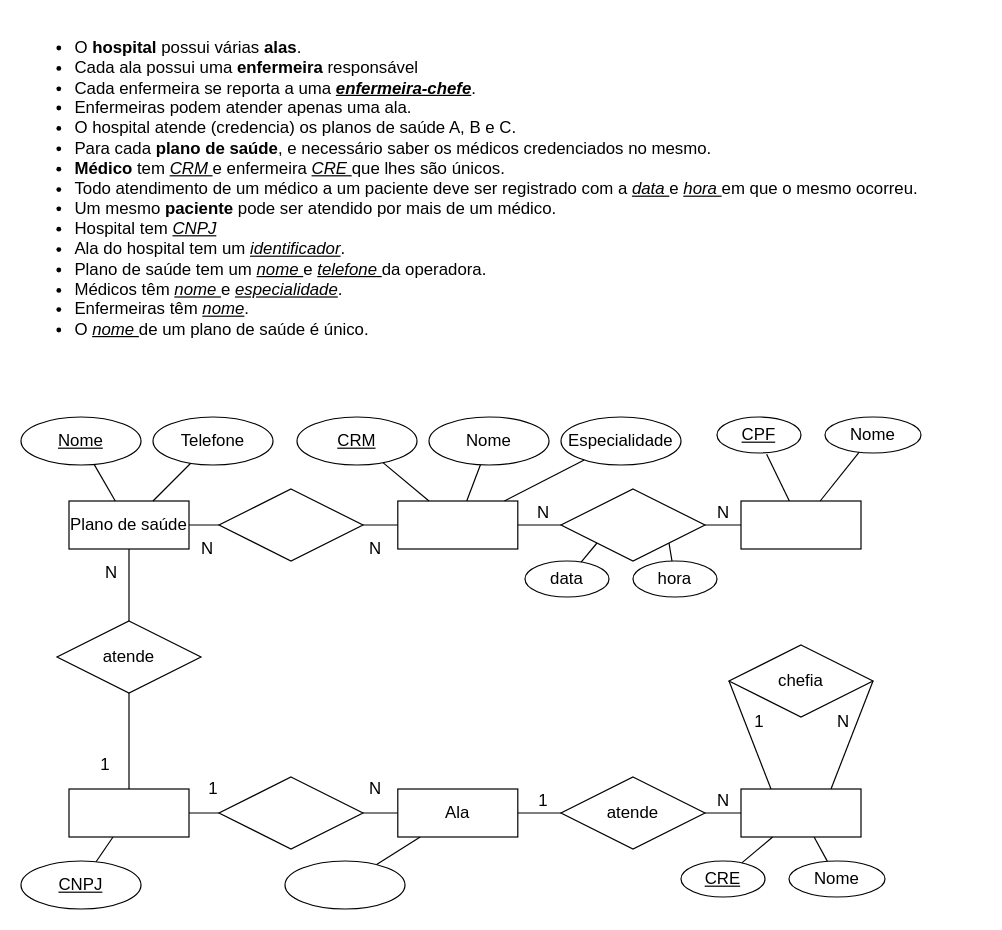
The diagram is 1002 pixels wide and 930 high, and some of its shapes have lost their labels. The shapes that lost their labels are listed below. From the top down, each one's centre as x and y in pixels, then its label:
point (290, 524): credencia
point (457, 524): Médico
point (632, 524): consulta
point (800, 524): Paciente
point (128, 812): Hospital
point (290, 812): possui
point (800, 812): Enfermeira
point (344, 884): ID
